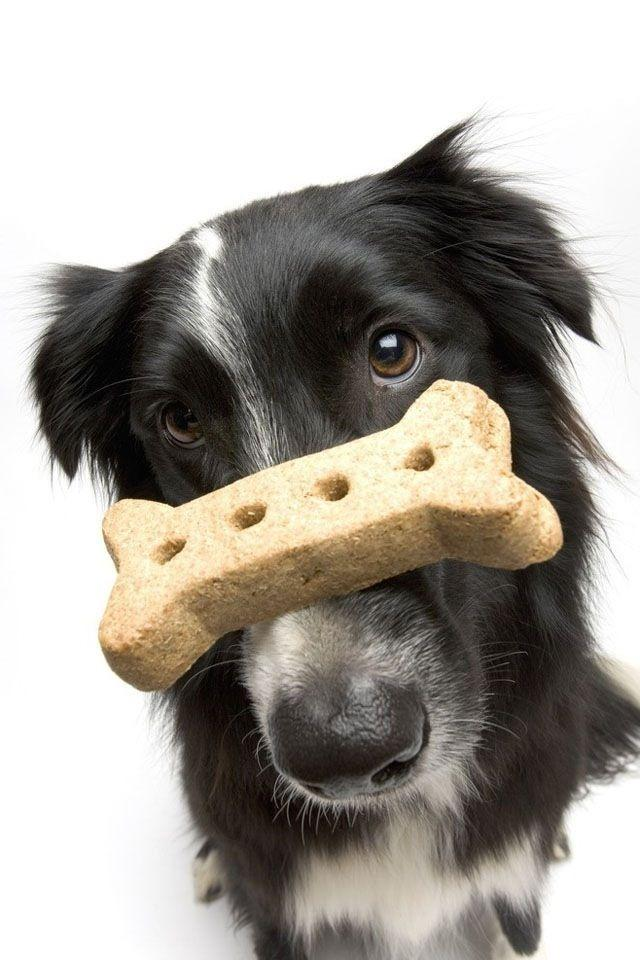adult_dog: (25, 107, 640, 960)
